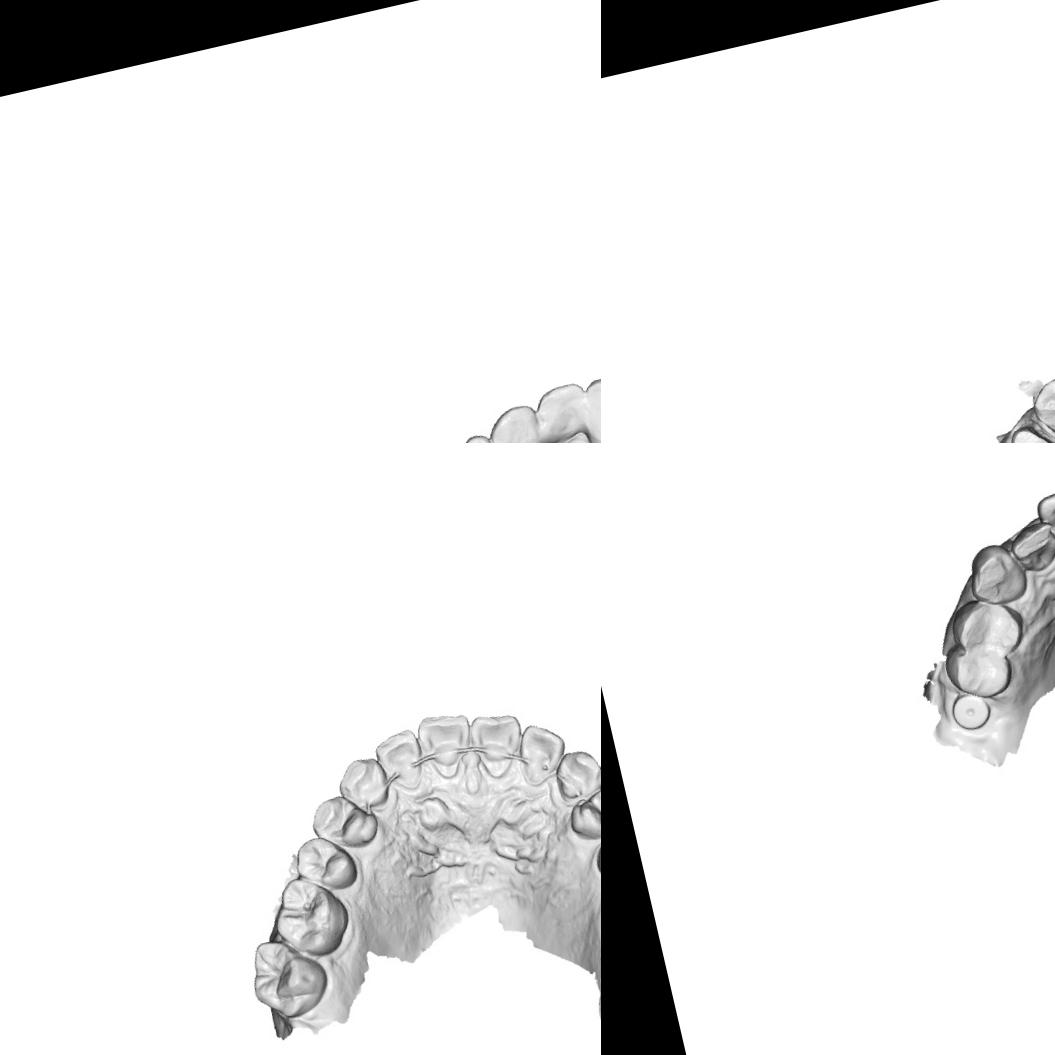canine: (961, 537, 1033, 610), (331, 752, 392, 818), (546, 743, 601, 807), (481, 399, 551, 443), (1027, 370, 1055, 443)
crown: (1006, 418, 1055, 443)
implant: (947, 688, 994, 735)
incisor: (412, 705, 482, 785), (466, 705, 532, 782), (510, 716, 574, 788), (369, 725, 431, 798), (530, 378, 592, 443), (1005, 517, 1055, 578), (574, 369, 601, 443), (1031, 480, 1055, 547)
molar: (262, 866, 358, 967), (241, 928, 334, 1026)
premolar: (944, 590, 1028, 665), (287, 827, 364, 900), (940, 636, 1018, 708), (304, 787, 383, 858), (563, 780, 601, 846), (456, 426, 507, 443)
